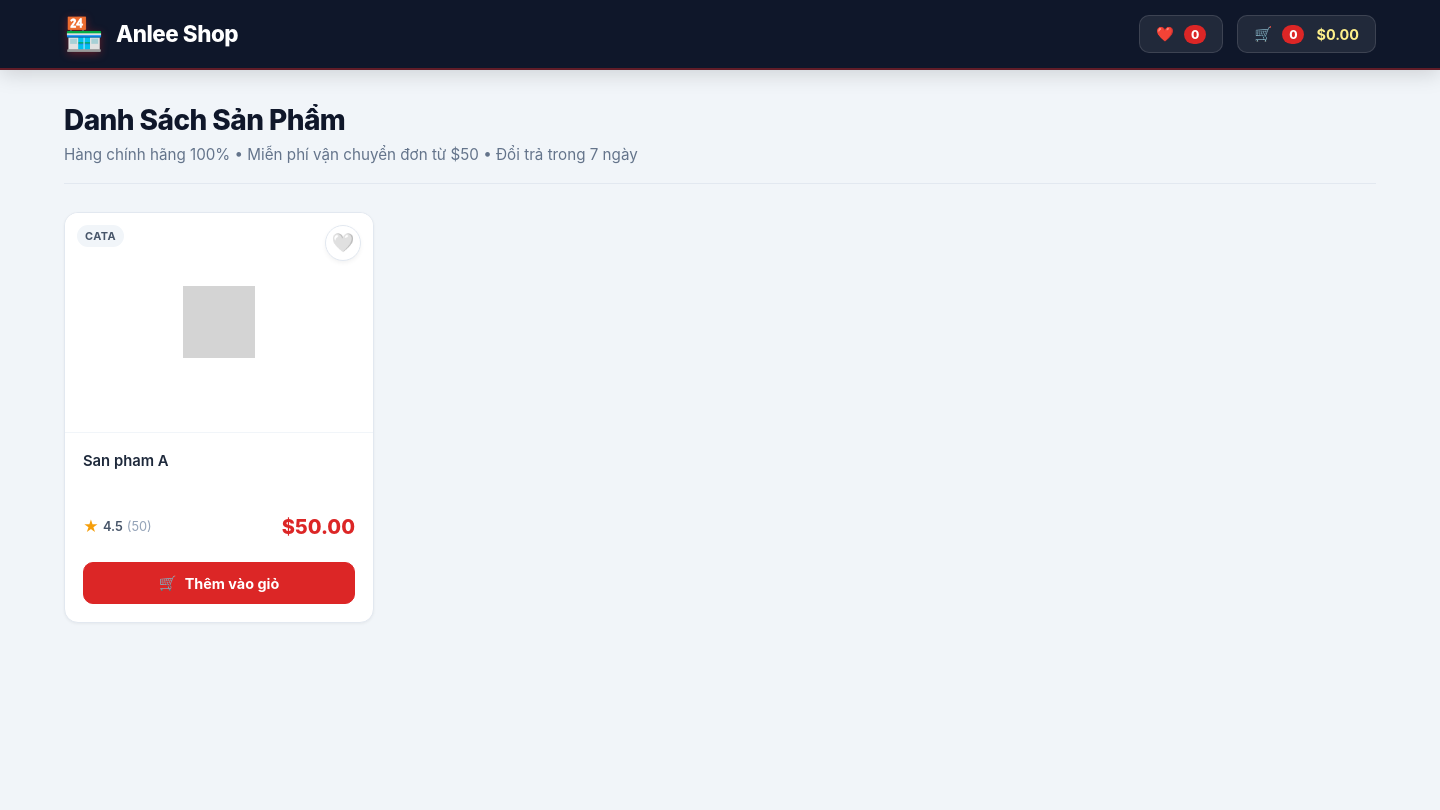
App Integration Suite › 31. Luong nguoi dung: xem danh sach, them vao gio hang, mo gio hang va kiem tra tong tien
This screenshot has width=1440, height=810.
Expected: the heading "San pham A" is shown, [83,452,168,470]
# Click "Thêm vào giỏ"
Click the button with aria-label "Thêm vào giỏ hàng": (219, 583) [83,562,355,604]
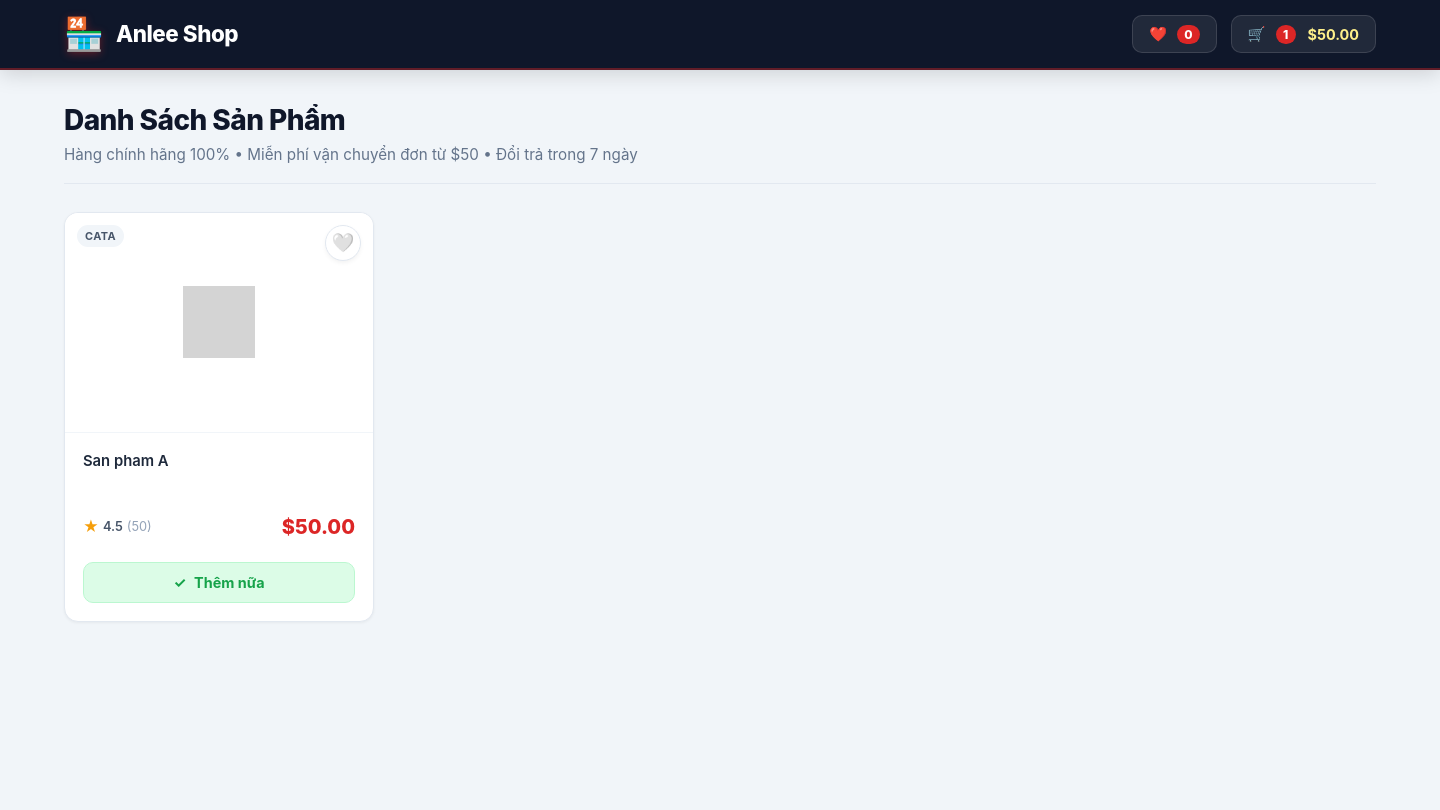
# Open cart modal/sidebar
Click the button named "Xem giỏ hàng": (1303, 34) [1231,15,1376,53]
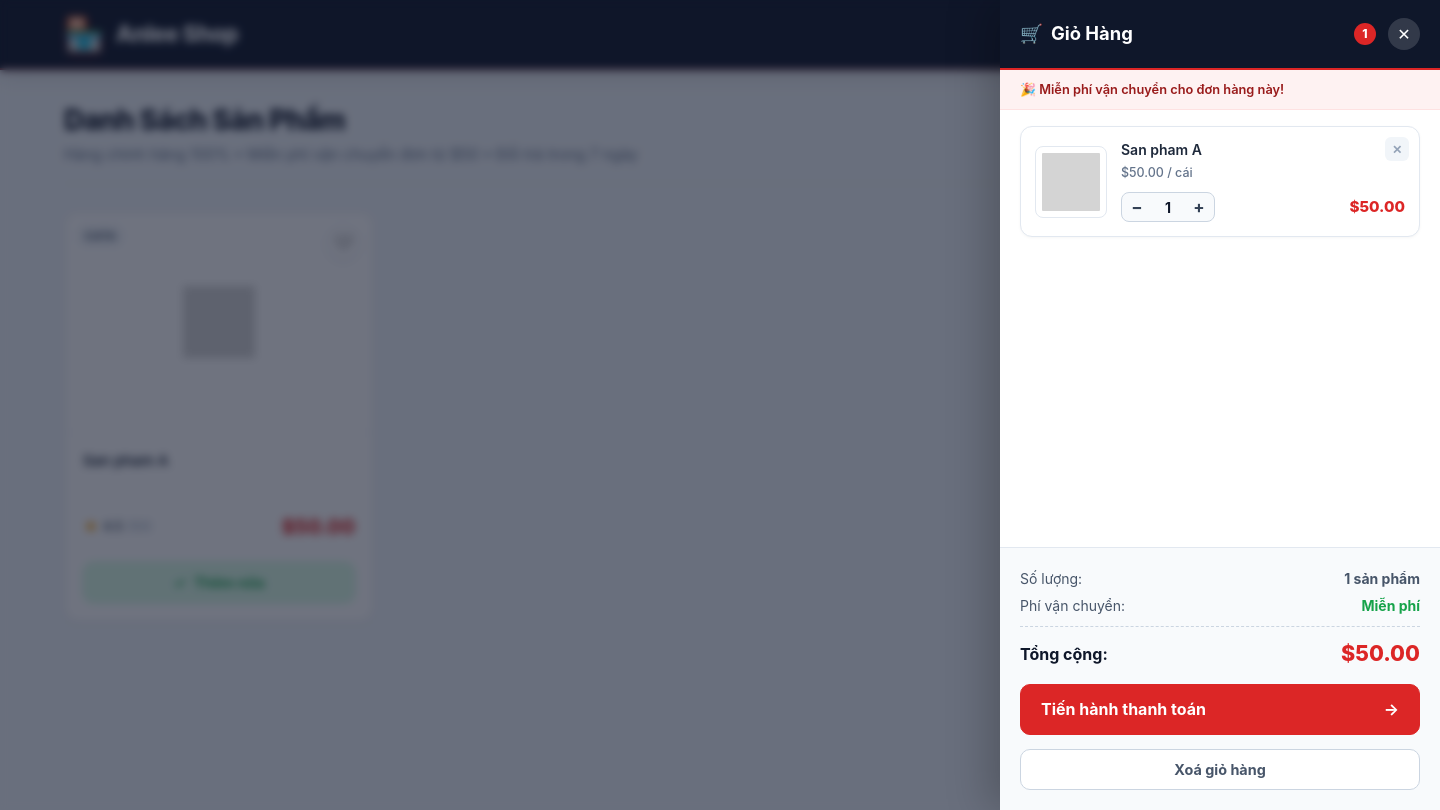
Expected: the text with test id "cart-total" reads "$50.00", [1341,638,1420,670]
